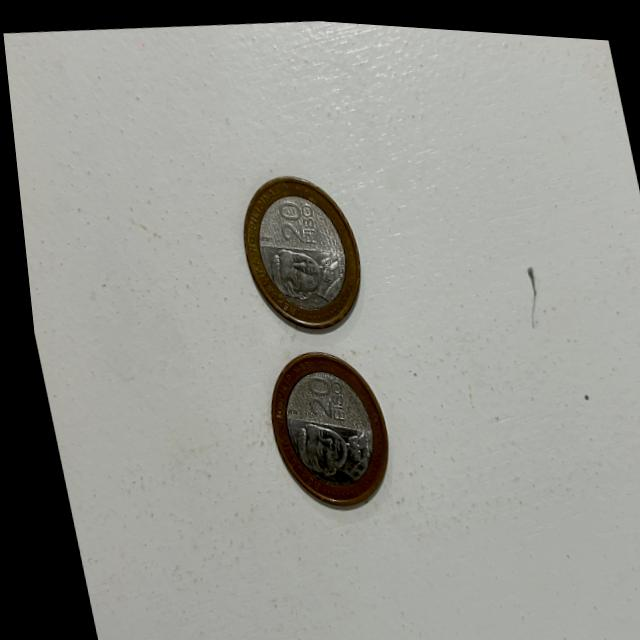20_New_Front: (289, 367, 346, 421), (267, 198, 318, 247)
